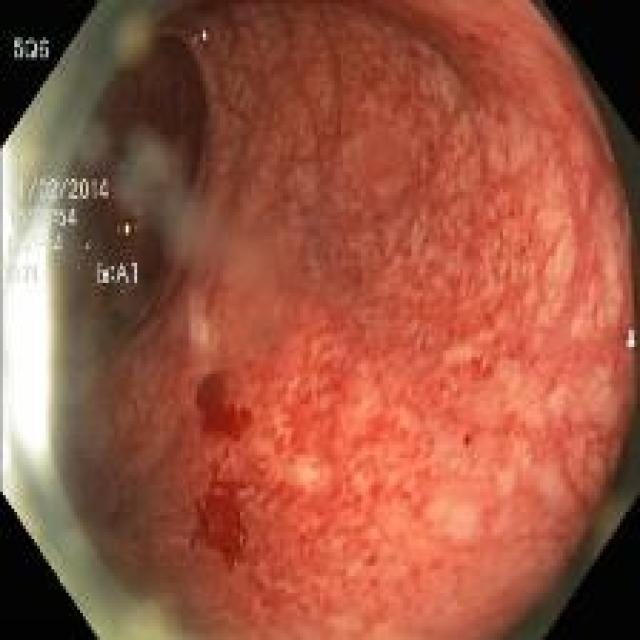ulcerative-colitis-grade-1: (80, 3, 636, 637)
